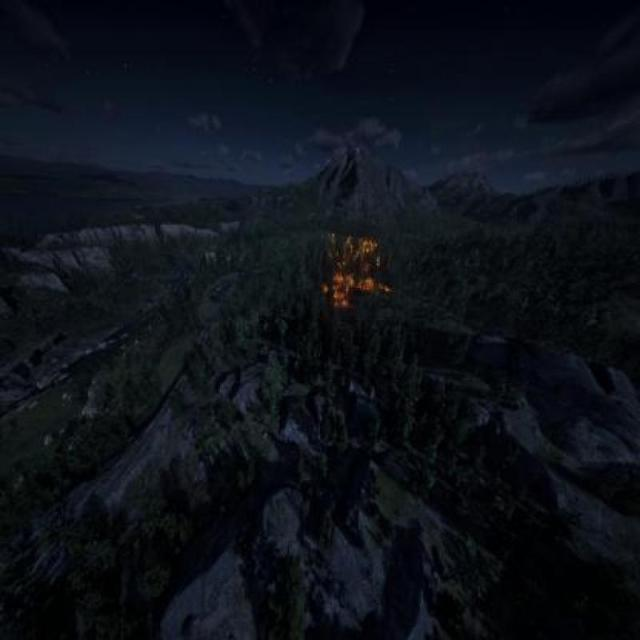Fire: (323, 231, 394, 311)
